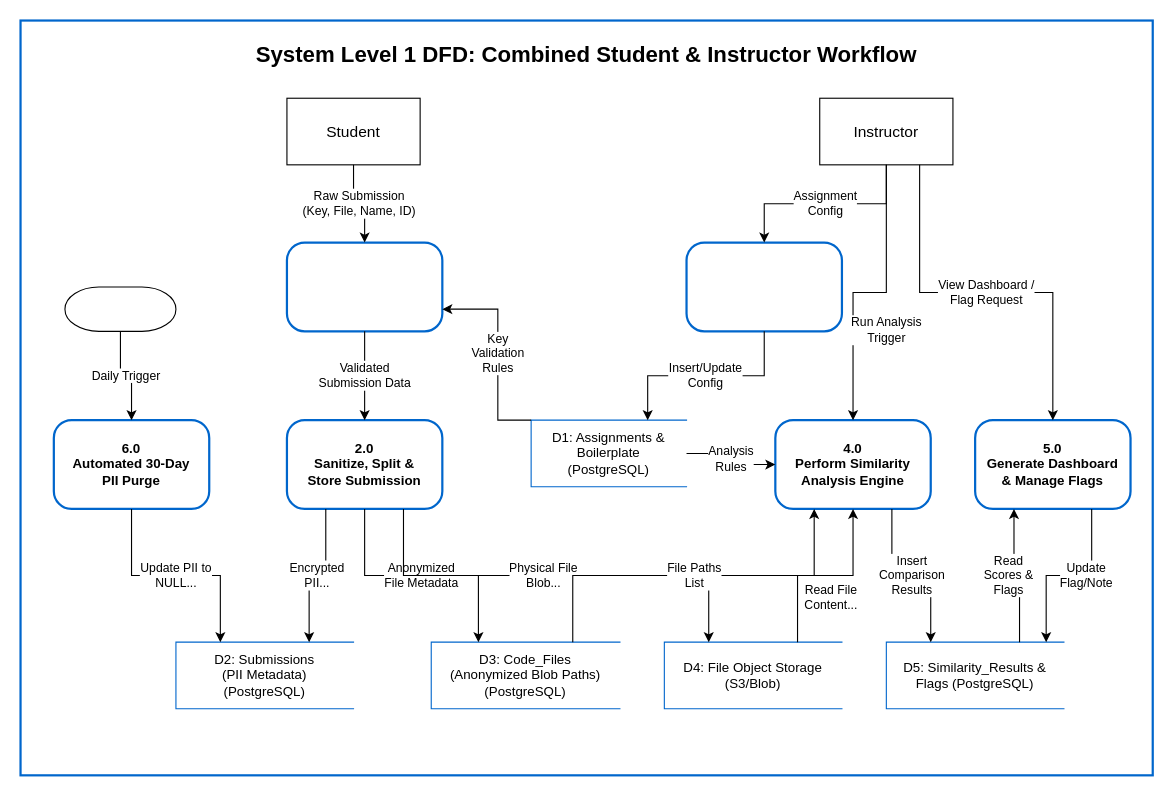
Some shapes in this 1172 by 795 pixel diagram are drawn without their labels. The centre of each missing label's shape, as x and y in pixels:
"1.0 Validate & Receive Upload" goes at pixel 364 286.
"3.0 Configure Assignment & Boilerplate" goes at pixel 763 286.
"Time Trigger" goes at pixel 120 308.
